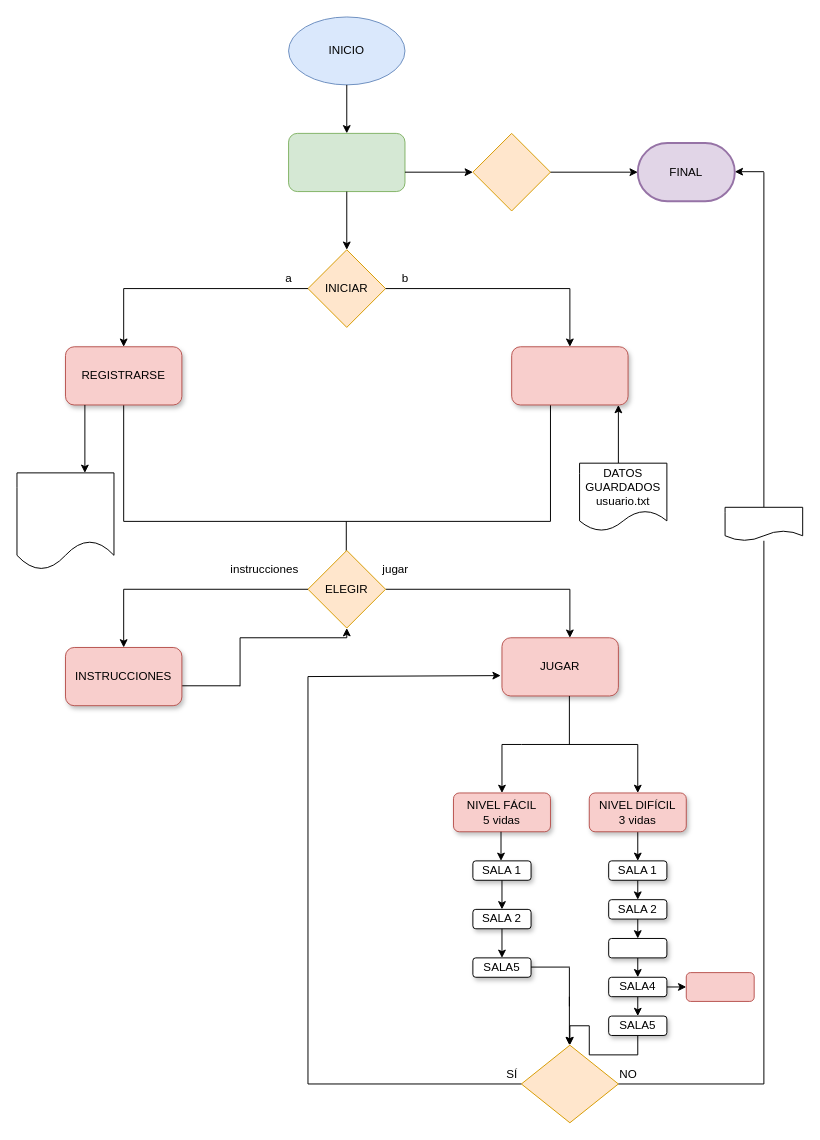
The diagram is 820 pixels wide and 1140 high, and some of its shapes have lost their labels. Here are the shapes that lost their labels. From the top down, the centre of each, then its label:
the point at 346,162: MENÚ
the point at 511,171: SALIR
the point at 570,377: INICIAR SESIÓN
the point at 65,521: MODO ESCRITURA NEUVOS USUARIOS usuario.txt
the point at 763,523: Creditos.txt
the point at 638,949: SALA3
the point at 719,986: ahorcado, tres en raya
the point at 569,1083: ¿VOLVER A JUGAR?
